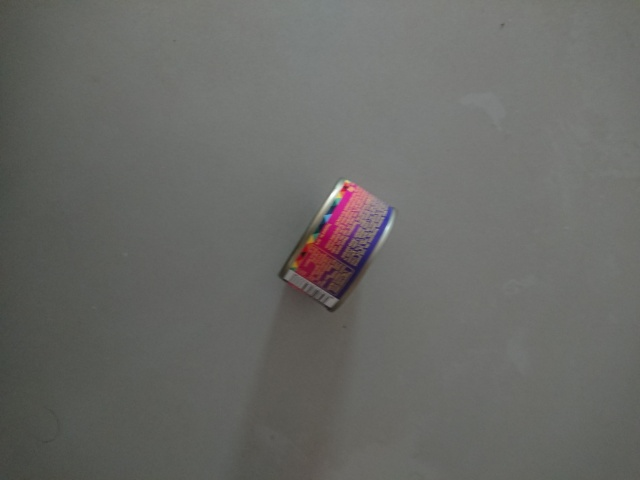Giana Tuna Salad Mexico 185g: (274, 175, 400, 317)
